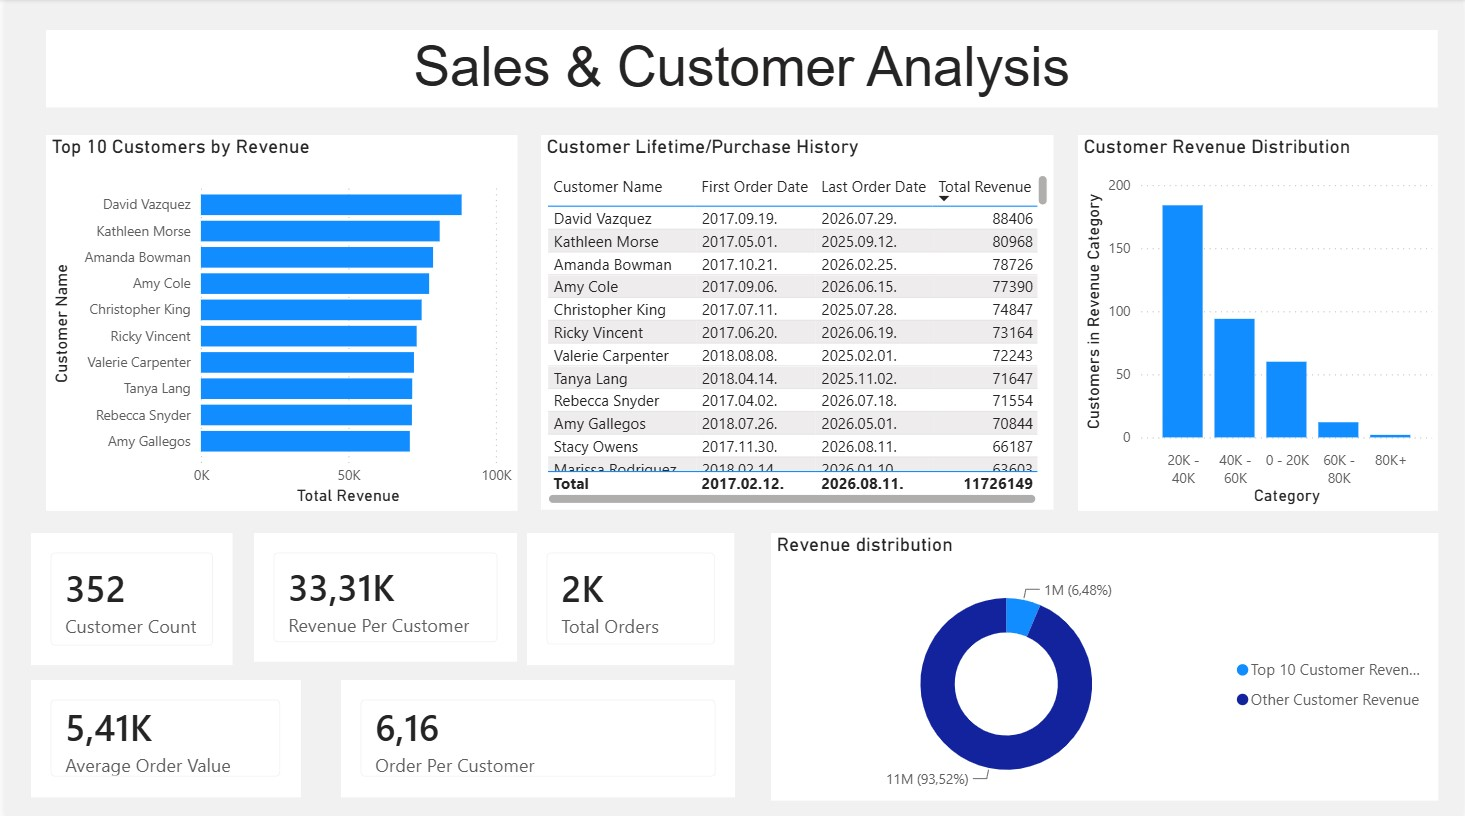

Layout of this report page (visuals, bound fields, positions):
{"tool":"powerbi","page":{"name":" Customer Value & Revenue Analysis","canvas":[1280,720],"ordinal":1},"visuals":[{"type":"textbox","box":[36,27.2,1221.6,68.1],"z":0},{"type":"cardVisual","fields":{"Data":["orders.Total Orders"]},"box":[458.7,468.6,182.1,115.9],"z":1000},{"type":"cardVisual","fields":{"Data":["customers.Customer Count"]},"box":[23,469,177,116],"z":2000},{"type":"cardVisual","fields":{"Data":["customers.Average Order Value"]},"box":[23.2,597.8,236.8,102.7],"z":3000},{"type":"cardVisual","fields":{"Data":["Revenue Time Period.Revenue Per Customer"]},"box":[219,469,231,113],"z":4000},{"type":"cardVisual","fields":{"Data":["Revenue Time Period.Order Per Customer"]},"box":[294.7,597.8,346.1,102.7],"z":5000},{"type":"barChart","title":"Top 10 Customers by Revenue","fields":{"Y":["order_items.Total Revenue"],"Category":["customers.Customer Name"]},"box":[36.4,119.2,414,329.5],"z":6000},{"type":"donutChart","title":"Revenue distribution","fields":{"Y":["Revenue Time Period.Top 10 Customer Revenue","Revenue Time Period.Other Customer Revenue"]},"box":[672.3,468.6,586.2,235.1],"z":7000},{"type":"tableEx","title":"Customer Lifetime/Purchase History","fields":{"Values":["customers.Customer Name","orders.First Order Date","orders.Last Order Date","order_items.Total Revenue"]},"box":[470.3,119.2,450,329],"z":8000},{"type":"clusteredColumnChart","title":"Customer Revenue Distribution","fields":{"Category":["Revenue Category.Category"],"Y":["Revenue Category.Customers in Revenue Category"]},"box":[942.2,119.2,316.3,329.5],"z":9000}]}

Visuals, with their boxes in screenshot pixels (x1, y1, x2, y2), scaled from the page's 1280x720 canvas onto the 1465x816 screenshot:
textbox: 41:31:1439:108
cardVisual - orders.Total Orders: 525:531:733:662
cardVisual - customers.Customer Count: 26:532:229:663
cardVisual - customers.Average Order Value: 27:678:298:794
cardVisual - Revenue Time Period.Revenue Per Customer: 251:532:515:660
cardVisual - Revenue Time Period.Order Per Customer: 337:678:733:794
"Top 10 Customers by Revenue" barChart: 42:135:515:509
"Revenue distribution" donutChart: 769:531:1440:798
"Customer Lifetime/Purchase History" tableEx: 538:135:1053:508
"Customer Revenue Distribution" clusteredColumnChart: 1078:135:1440:509
